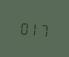one: (29, 19, 38, 37)
seven: (39, 20, 48, 38)
zero: (18, 18, 27, 36)
